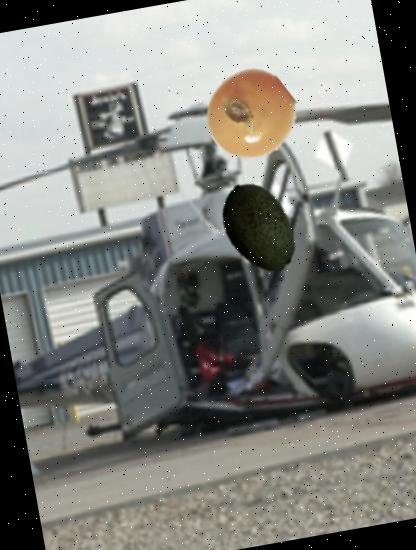Avocado: (202, 172, 314, 284)
Physalis: (199, 63, 303, 167)
